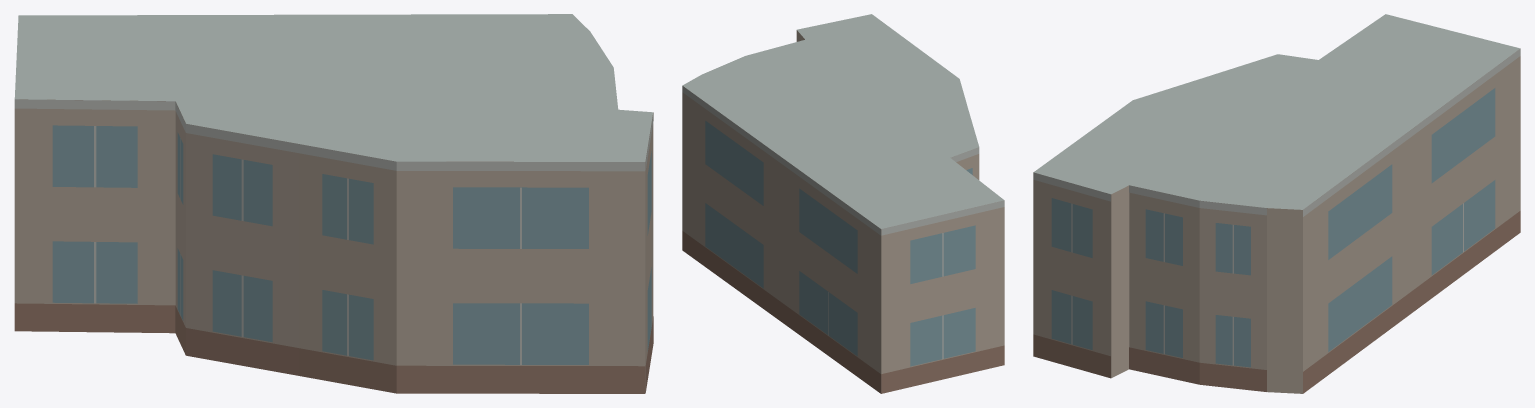
File: survey-upis-32668208.glb
3 renders of one model, left to right at view 1: azimuth 30°, elevation 25°; view 2: azimuth 150°, elevation 25°; view 3: azimuth 270°, elevation 25°, orthographic. The views are drawn at different scales.
Visible parts, largest first — view 1: survey-upis-32668208.tmp; view 2: survey-upis-32668208.tmp; view 3: survey-upis-32668208.tmp.
Part boxes in pixels (x1=…): survey-upis-32668208.tmp: x1=14, y1=14, x2=653, y2=393; survey-upis-32668208.tmp: x1=682, y1=14, x2=1004, y2=393; survey-upis-32668208.tmp: x1=1033, y1=14, x2=1520, y2=393.
Size of the model in its own units: 13.93 by 6.1 by 14.65.
